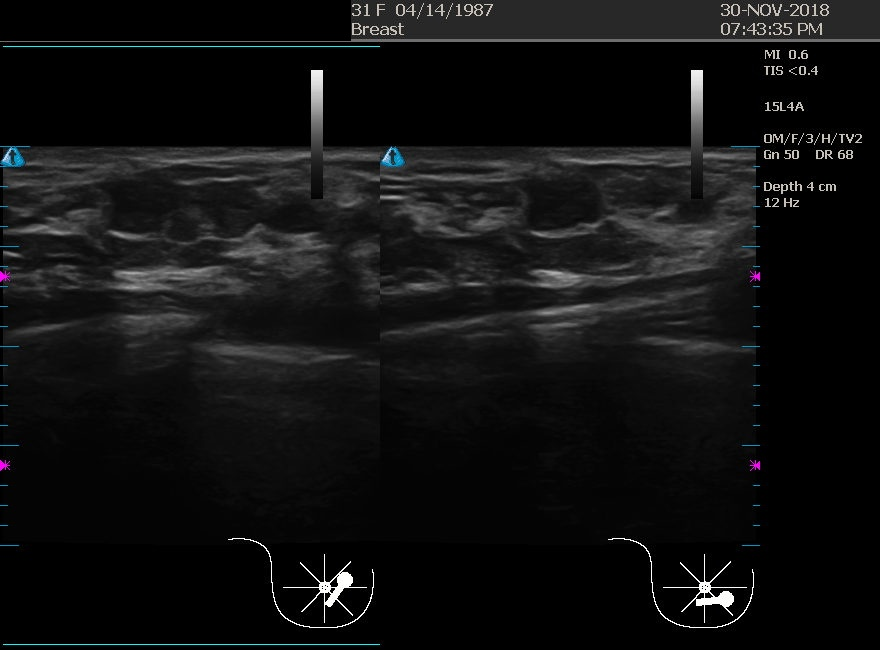BIRADS_4: (73, 152, 273, 352), (455, 153, 655, 353)
